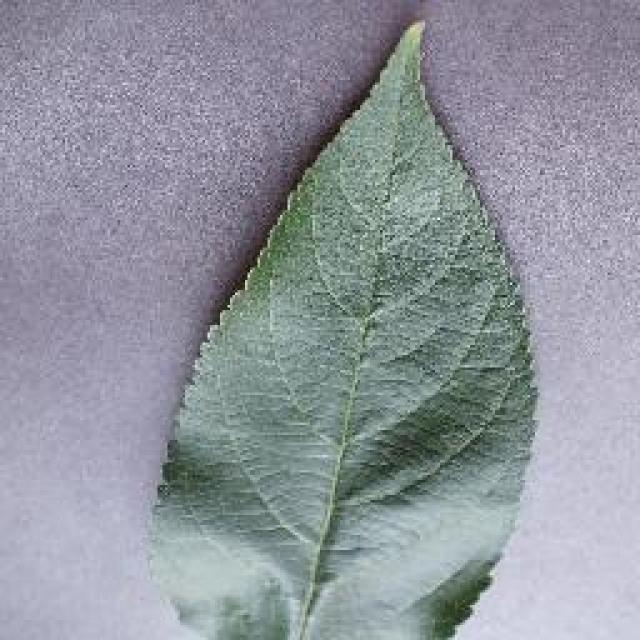apple healthy: (142, 15, 540, 637)
